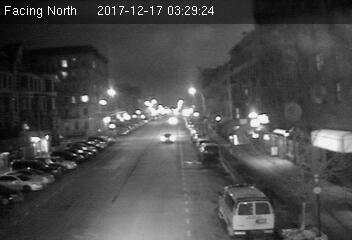car: (160, 133, 175, 144)
police: (217, 181, 273, 236)
